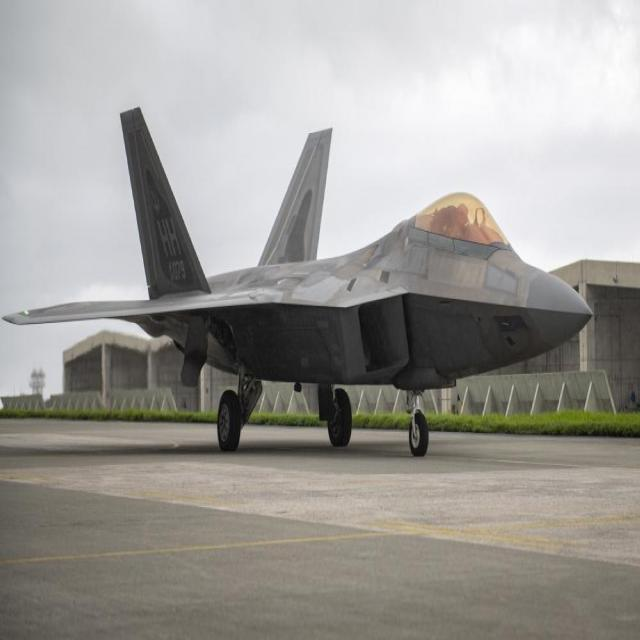F22: (8, 106, 598, 458)
